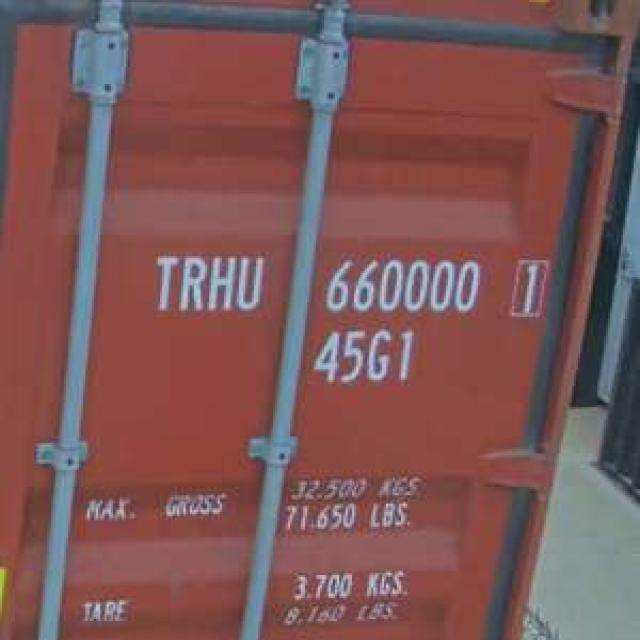dv: (500, 254, 552, 320)
owner: (146, 250, 268, 317)
serial: (322, 252, 482, 318)
size: (308, 323, 417, 389)
